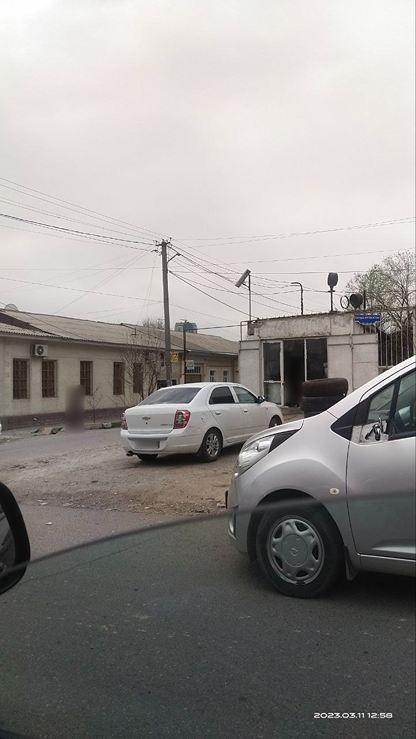car: (235, 364, 416, 595), (121, 368, 289, 455)
